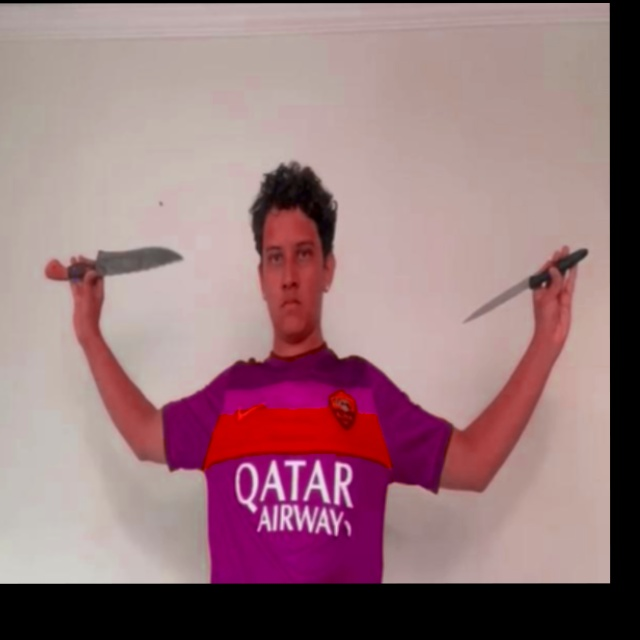Sharp-Object: (462, 275, 531, 323), (94, 245, 185, 277)
